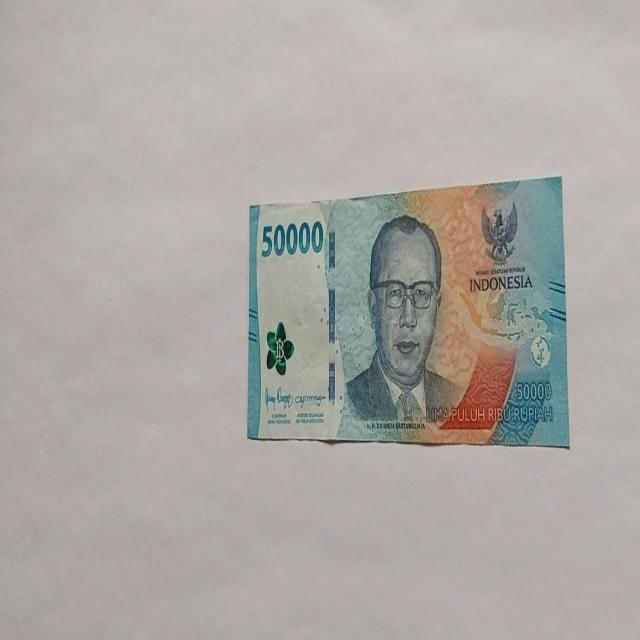lima puluh ribu rupiah: (246, 176, 570, 448), (338, 212, 464, 434)
